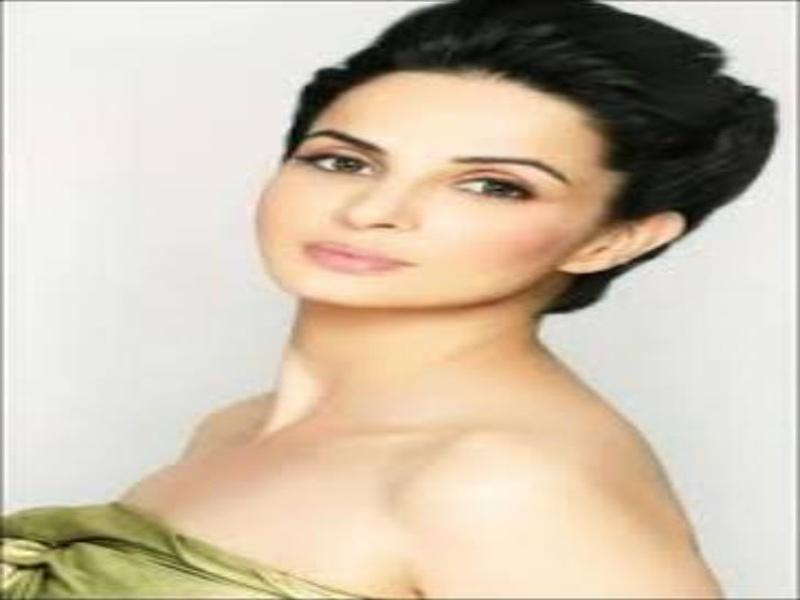TsisyArotava: (236, 6, 607, 334)
